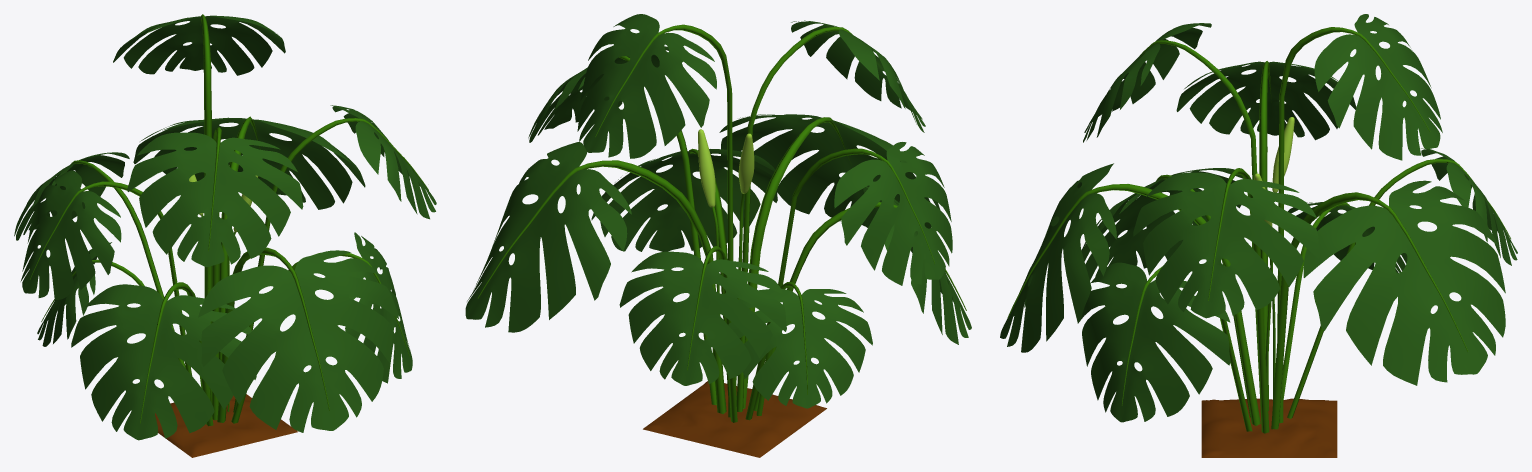
File: monstera.glb
3 renders of one model, left to right at view 1: azimuth 30°, elevation 25°; view 2: azimuth 150°, elevation 25°; view 3: azimuth 270°, elevation 25°, orthographic. The views are drawn at different scales.
Visible parts, largest first — view 1: 5_nft_fruiting; view 2: 5_nft_fruiting; view 3: 5_nft_fruiting.
Boxes of the visible parts, left/top/right/bottom form: 5_nft_fruiting: left=14, top=14, right=436, bottom=457; 5_nft_fruiting: left=465, top=14, right=971, bottom=457; 5_nft_fruiting: left=1000, top=14, right=1517, bottom=457.
Size of the model in its own units: 2.51 by 2.35 by 2.67.
